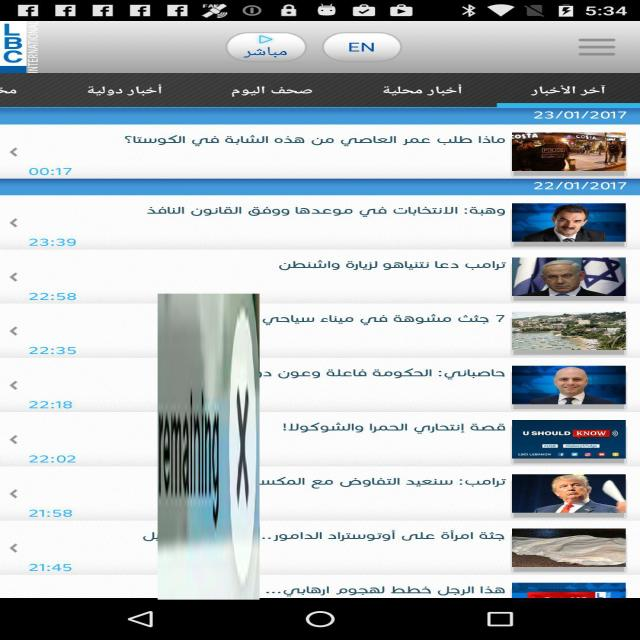misdirection: (158, 294, 260, 600)
